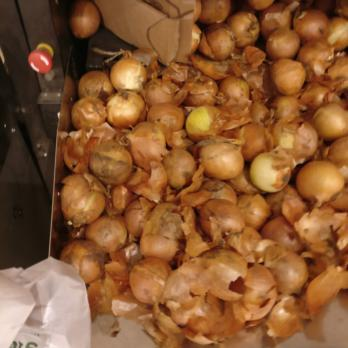Onion: (70, 6, 348, 348)
